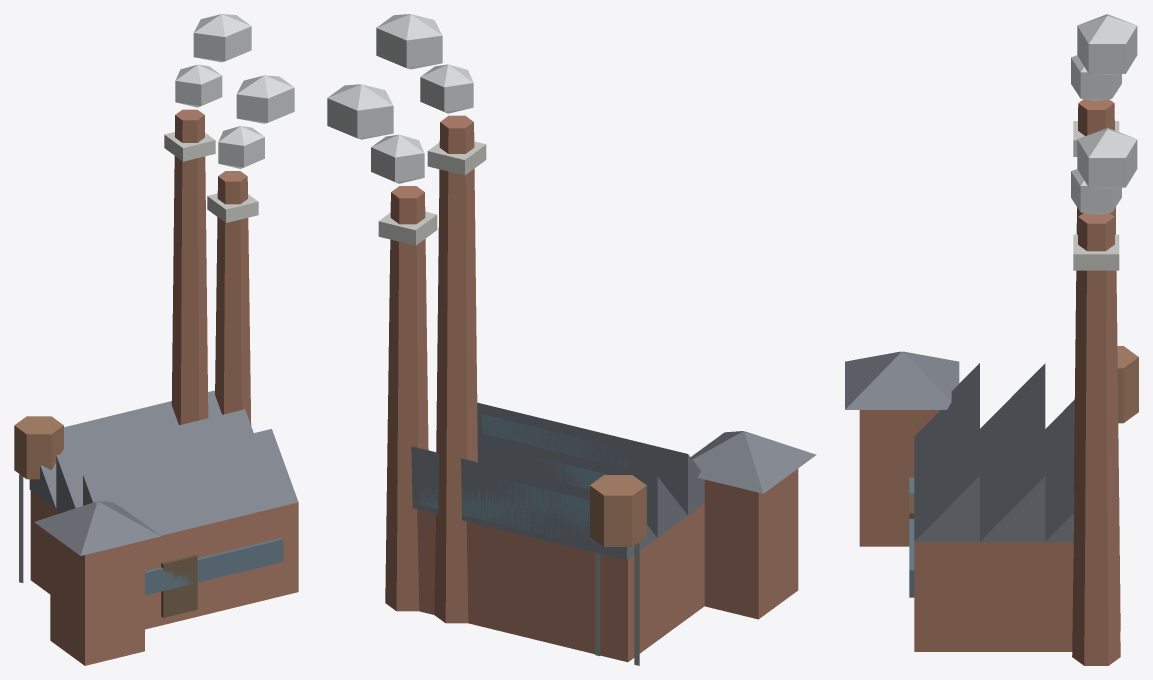
File: factory.glb
3 views of the same model, side by side, from view 1: azimuth 30°, elevation 25°; view 2: azimuth 150°, elevation 25°; view 3: azimuth 270°, elevation 25° (orthographic). The views are drawn at different scales.
Parts seen in each view (by area): view 1: LOD0; view 2: LOD0; view 3: LOD0.
Part boxes in pixels (x1,y1,x2,y2): LOD0: [14, 14, 298, 665]; LOD0: [327, 14, 816, 665]; LOD0: [845, 14, 1138, 665].
Size of what is drawn, in the model's own units: 0.3653 by 0.579 by 0.242.
